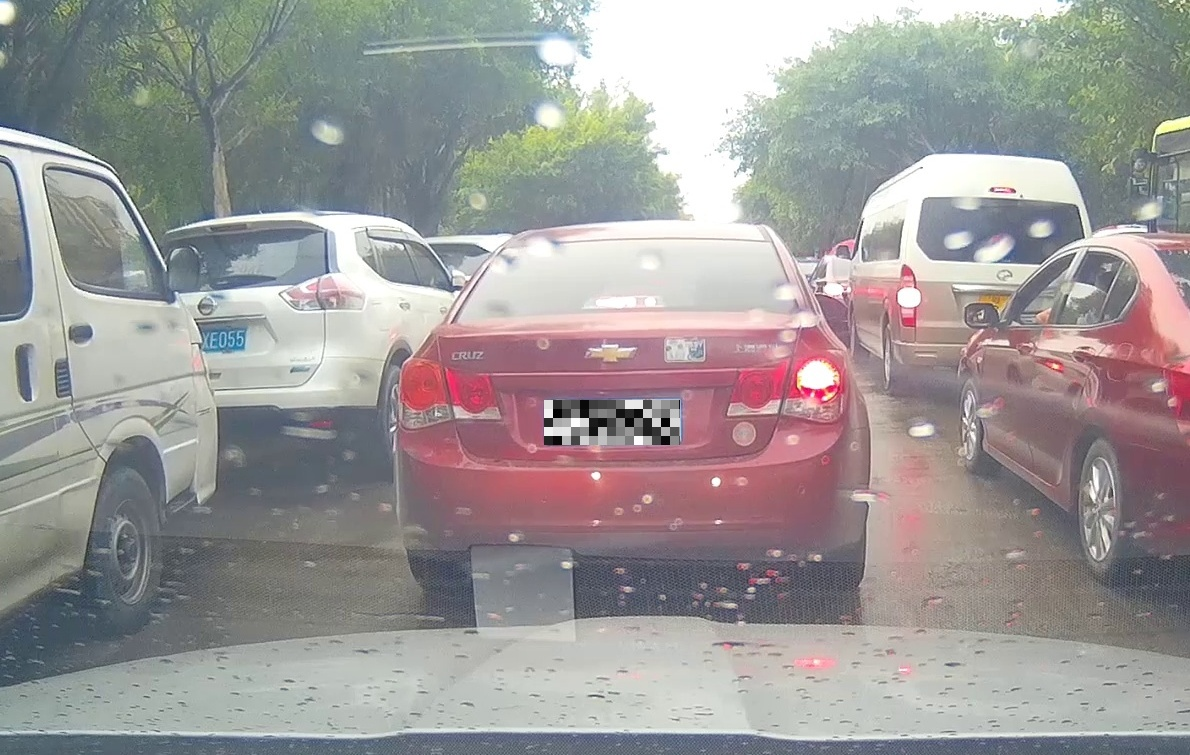L_light: (398, 358, 501, 428)
R_light: (725, 349, 846, 421)
T_light: (590, 297, 663, 309)
day-right: (397, 221, 870, 589)
plate_1: (544, 400, 680, 445)
